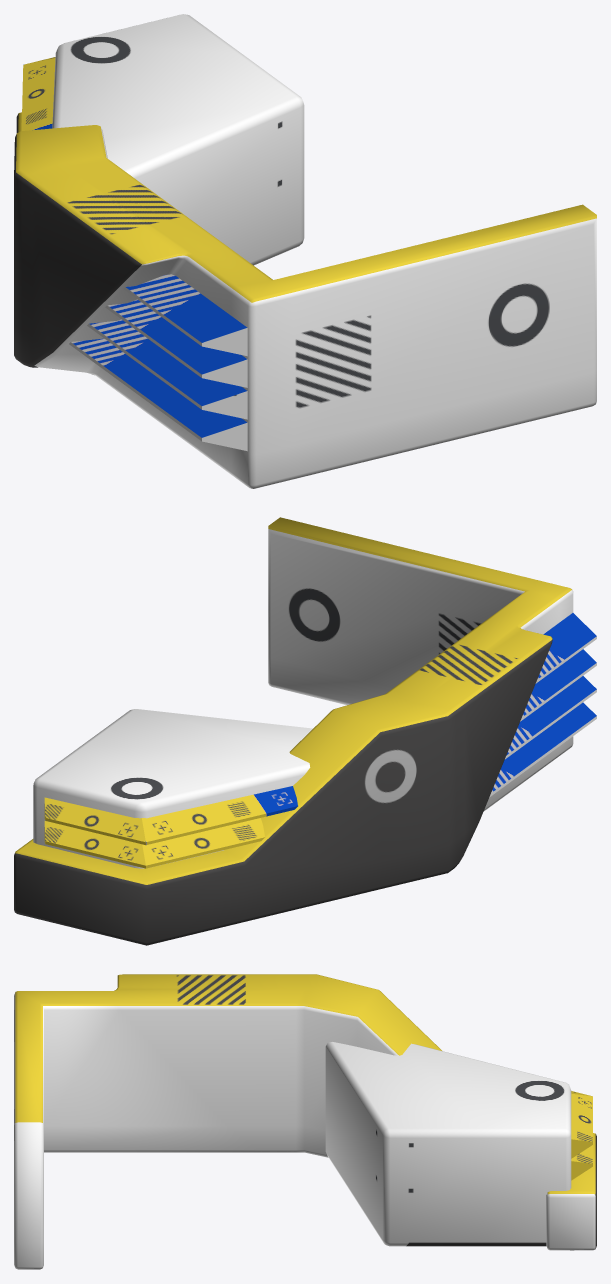
File: Comptoire_textures.fbx
The picture shows the model from 3 angles, top to bottom: view 1: azimuth 30°, elevation 25°; view 2: azimuth 150°, elevation 25°; view 3: azimuth 270°, elevation 25°; orthographic projection. The views are drawn at different scales.
Parts seen in each view (by area): view 1: SM_comptoir; view 2: SM_comptoir; view 3: SM_comptoir.
Boxes of the visible parts, x1,y1,x2,y2 form: SM_comptoir: (14, 14, 596, 488); SM_comptoir: (14, 517, 596, 945); SM_comptoir: (14, 974, 596, 1269).
Bounding box in the file's own units: 4.63 × 2.15 × 7.6.
